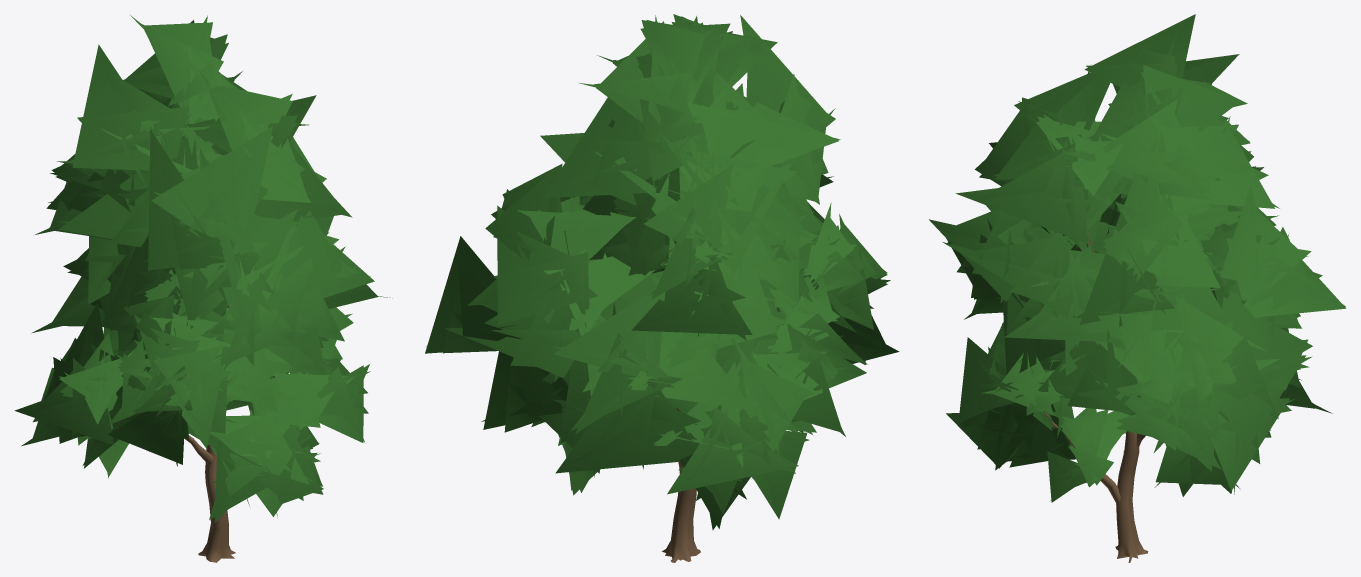
File: Ginkgo_B.obj
The picture shows the model from 3 angles, left to right: view 1: azimuth 30°, elevation 25°; view 2: azimuth 150°, elevation 25°; view 3: azimuth 270°, elevation 25°; orthographic projection. The views are drawn at different scales.
Parts seen in each view (by area): view 1: Leaves, Trunk; view 2: Leaves, Trunk; view 3: Leaves, Trunk.
Boxes of the visible parts, x1,y1,x2,y2 form: Leaves: [14, 15, 392, 522]; Trunk: [184, 305, 235, 562]; Leaves: [425, 14, 899, 530]; Trunk: [662, 407, 700, 562]; Leaves: [929, 14, 1346, 502]; Trunk: [1043, 230, 1148, 562].
Bounding box in the file's own units: 46.03 × 64.44 × 47.31.
